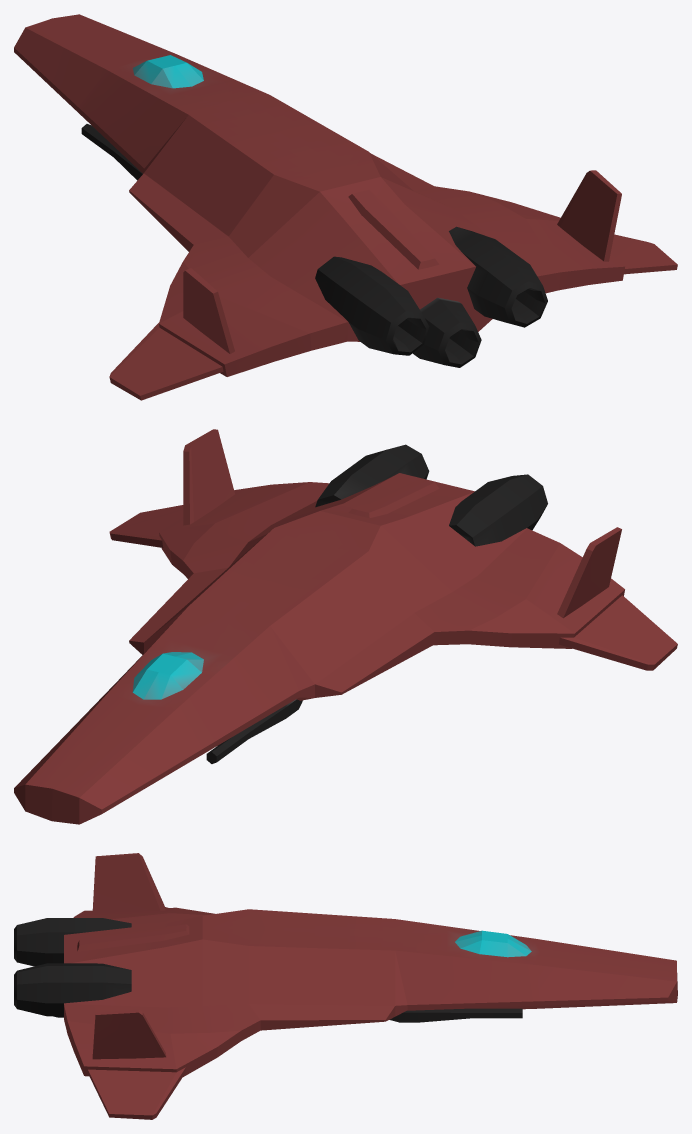
File: ship.gltf.glb
The picture shows the model from 3 angles, top to bottom: view 1: azimuth 30°, elevation 25°; view 2: azimuth 150°, elevation 25°; view 3: azimuth 270°, elevation 25°; orthographic projection. The views are drawn at different scales.
Parts seen in each view (by area): view 1: Ship, Thrusters.001, Thrusters, Guns; view 2: Ship, Thrusters.001, Guns; view 3: Ship, Thrusters.001, Guns.
Part boxes in pixels (box(x1,y1,x2,y2)): Ship: box(14, 14, 677, 400); Thrusters.001: box(315, 226, 547, 355); Thrusters: box(412, 297, 481, 367); Guns: box(81, 124, 142, 180); Ship: box(14, 429, 677, 824); Thrusters.001: box(315, 444, 547, 546); Guns: box(206, 699, 302, 763); Ship: box(64, 853, 677, 1119); Thrusters.001: box(14, 918, 131, 1016); Guns: box(389, 1008, 522, 1022).
Size of the model in its own units: 13.88 by 2.73 by 18.4.
